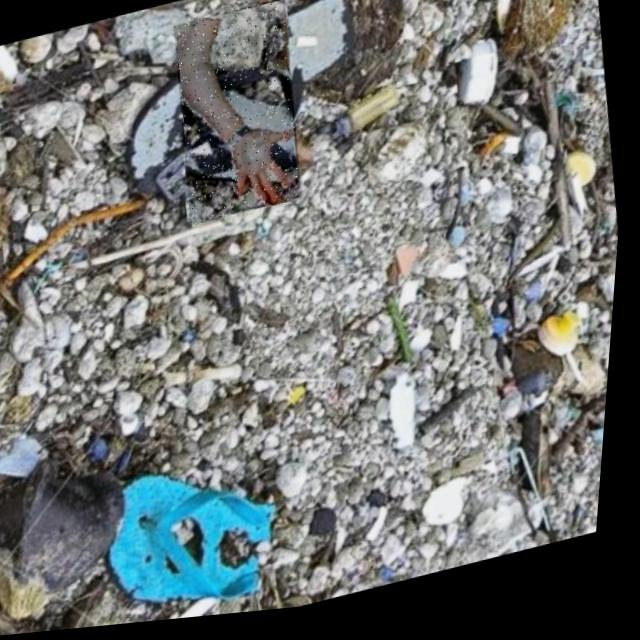Person in Rubble: (162, 1, 317, 232)
